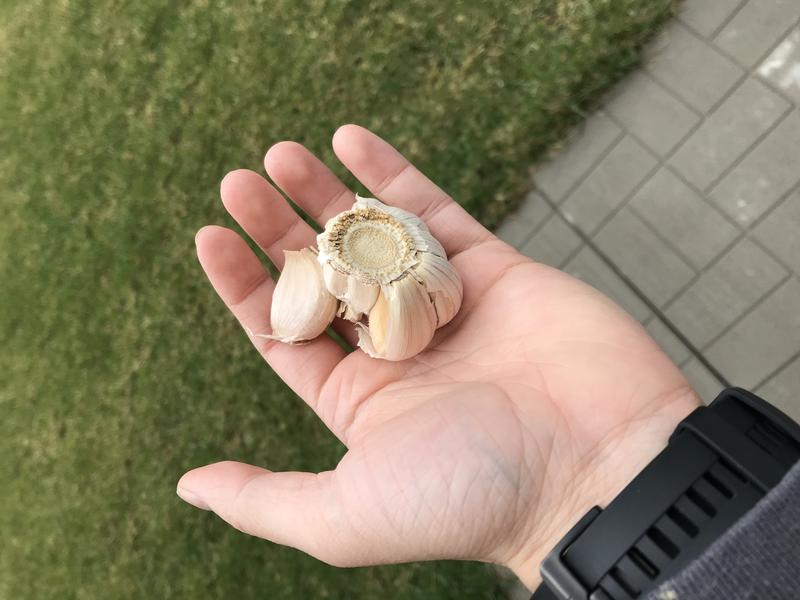garlic: (261, 190, 476, 373)
